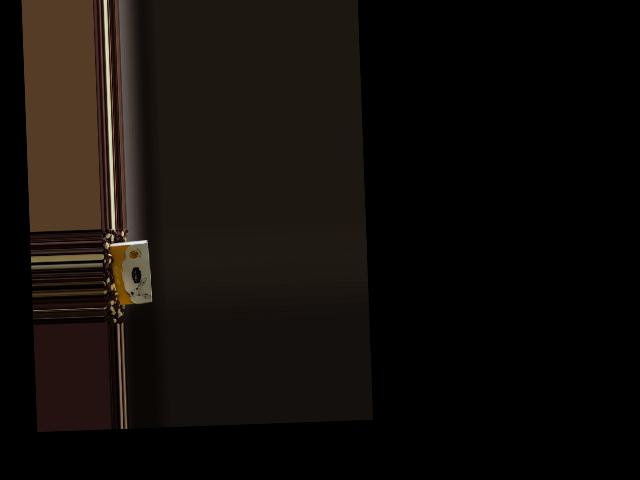chocolate: (107, 237, 154, 309)
